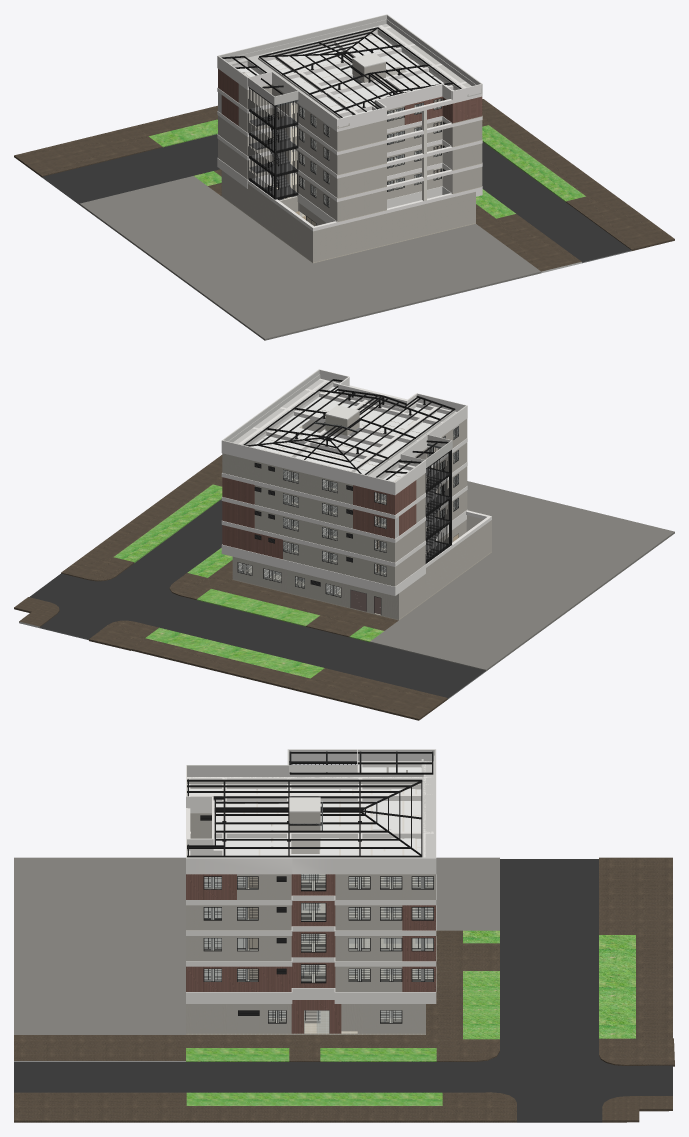
File: UNITROPICO.glb
3 views of the same model, one above another, from view 1: azimuth 30°, elevation 25°; view 2: azimuth 150°, elevation 25°; view 3: azimuth 270°, elevation 25° (orthographic). The views are drawn at different scales.
Parts seen in each view (by area): view 1: Sólido 3D.4125, Subentidad.122, Sólido 3D.4127, Sólido 3D.4126, Subentidad.117, Sólido 3D, Sólido 3D.4117, Sólido 3D.4118, Subentidad.121, Sólido 3D.4132, Sólido 3D.4119, Subentidad.052 (+30 smaller); view 2: Sólido 3D.4125, Subentidad.122, Sólido 3D.4126, Subentidad.117, Sólido 3D, Subentidad.121, Sólido 3D.4127, Sólido 3D.4119, Sólido 3D.4117, Sólido 3D.4129, Sólido 3D.3806, Sólido 3D.4132 (+22 smaller); view 3: Subentidad.122, Sólido 3D.4125, Subentidad.121, Sólido 3D.4127, Sólido 3D.4126, Subentidad.117, Sólido 3D, Sólido 3D.4117, Sólido 3D.4119, Sólido 3D.4129, Sólido 3D.4132, Sólido 3D.4118 (+31 smaller).
Boxes of the visible parts, x1,y1,x2,y2 form: Sólido 3D.4125: (79,176,541,340); Subentidad.122: (43,134,631,262); Sólido 3D.4127: (482,99,674,250); Sólido 3D.4126: (14,105,217,177); Subentidad.117: (221,27,461,117); Sólido 3D: (237,34,453,117); Sólido 3D.4117: (233,25,482,131); Sólido 3D.4118: (224,19,482,128); Subentidad.121: (208,169,581,271); Sólido 3D.4132: (482,125,585,201); Sólido 3D.4119: (217,14,482,131); Subentidad.052: (221,170,475,262); Sólido 3D.4125: (370,481,674,671); Subentidad.122: (29,499,485,698); Sólido 3D.4126: (89,620,447,720); Subentidad.117: (243,379,455,479); Sólido 3D: (251,386,445,481); Subentidad.121: (169,560,398,637); Sólido 3D.4127: (61,455,222,581); Sólido 3D.4119: (221,369,467,495); Sólido 3D.4117: (238,378,456,479); Sólido 3D.4129: (145,627,324,678); Sólido 3D.3806: (221,509,467,595); Sólido 3D.4132: (113,484,222,562); Subentidad.122: (14,859,672,1122); Sólido 3D.4125: (14,857,499,1034); Subentidad.121: (14,930,499,1061); Sólido 3D.4127: (14,1092,516,1122); Sólido 3D.4126: (599,857,674,1066); Subentidad.117: (187,751,433,857); Sólido 3D: (190,767,421,855); Sólido 3D.4117: (186,761,433,857); Sólido 3D.4119: (186,749,436,874); Sólido 3D.4129: (599,935,635,1038); Sólido 3D.4132: (186,1092,442,1105); Sólido 3D.4118: (187,755,434,857).
Bounding box in the file's own units: 50.39 × 17.31 × 53.57.
Materials: 199 (8 with a texture image).
